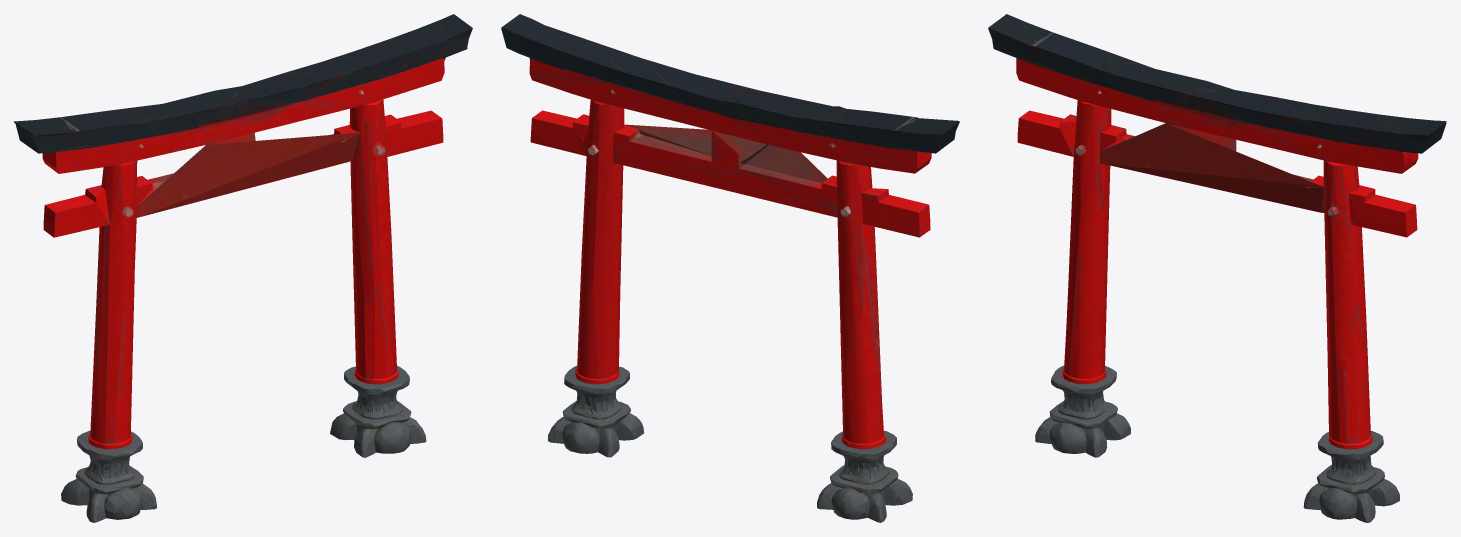
The model's file is torii_gate.glb.
3 renders of one model, left to right at view 1: azimuth 30°, elevation 25°; view 2: azimuth 150°, elevation 25°; view 3: azimuth 330°, elevation 25°, orthographic.
Bounding box in the file's own units: 1.9 × 1.64 × 0.3251.
1 material, 1 textured.
